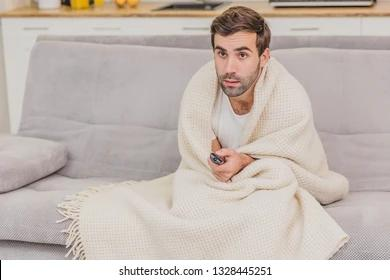blanket: (54, 56, 350, 261)
